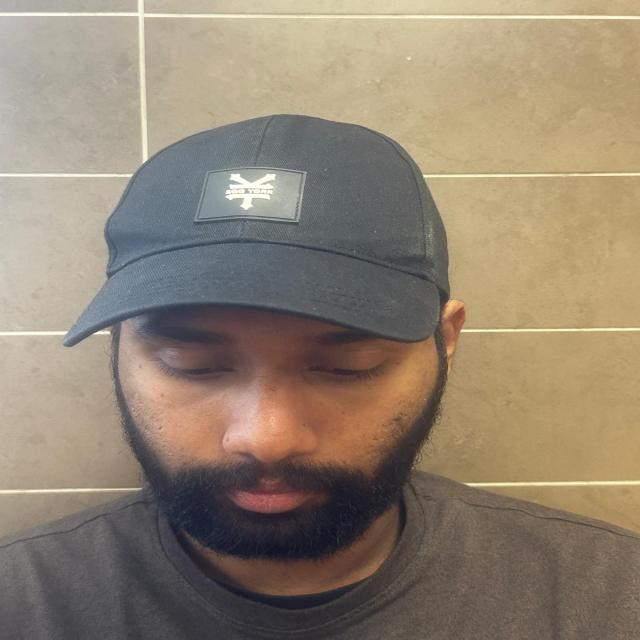cap: (40, 108, 518, 354)
